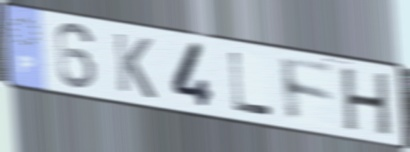4: (169, 39, 221, 112)
6: (54, 21, 99, 93)
F: (277, 54, 338, 126)
H: (340, 66, 393, 140)
K: (111, 29, 159, 102)
L: (226, 49, 275, 118)
